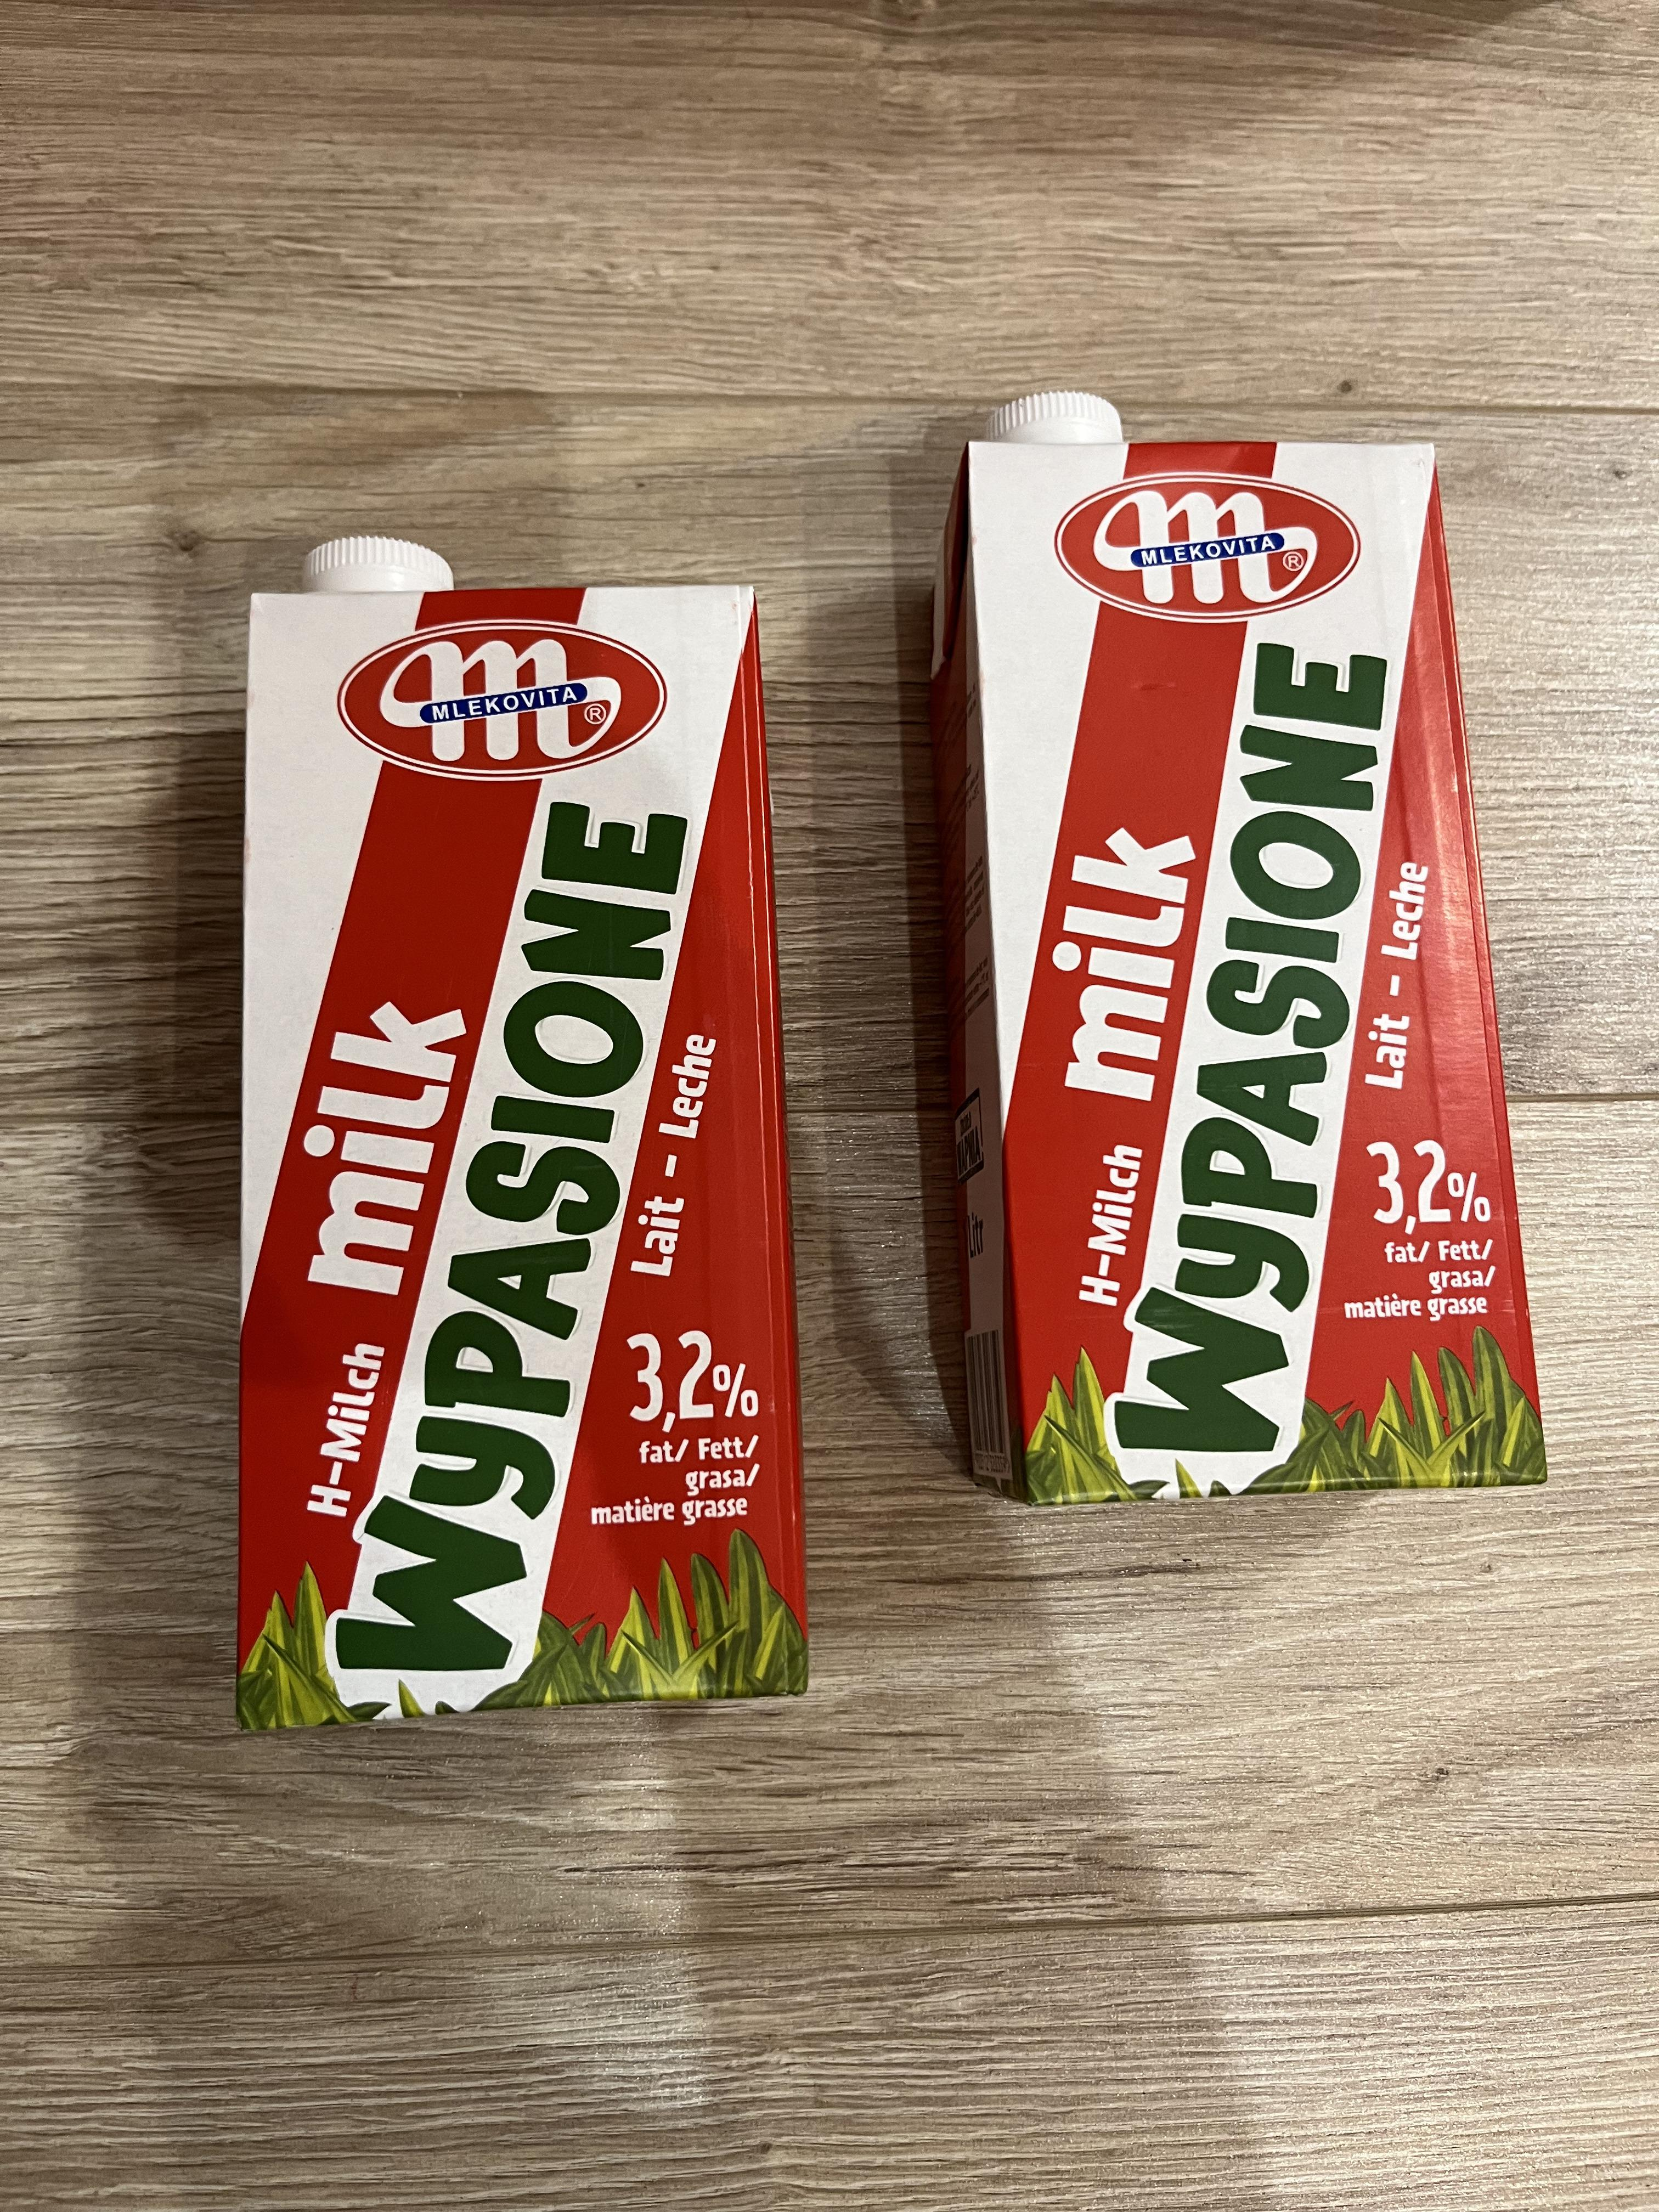Milk: (242, 590, 819, 1728), (979, 428, 1542, 1489)
